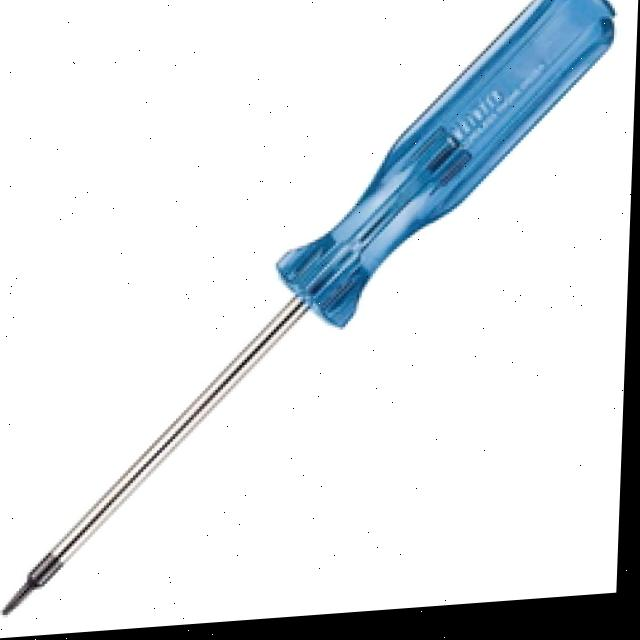Screwdriver: (9, 0, 615, 614)
